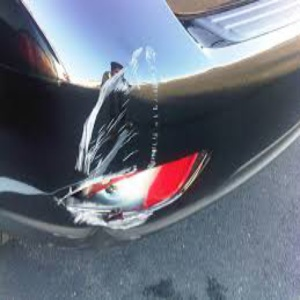bumper_scratch: (42, 47, 179, 151)
tail_lights: (51, 162, 206, 222)
